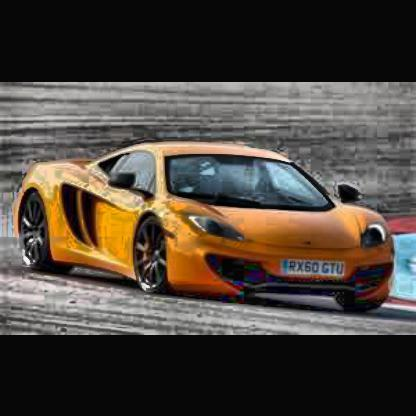McLaren MP4-12C Coupe 2012: (18, 143, 400, 310)
